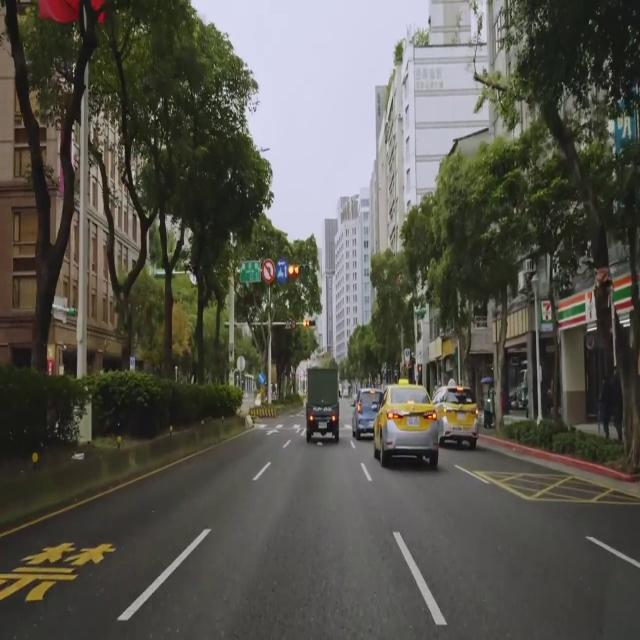red light: (288, 265, 311, 275), (302, 321, 316, 326)
